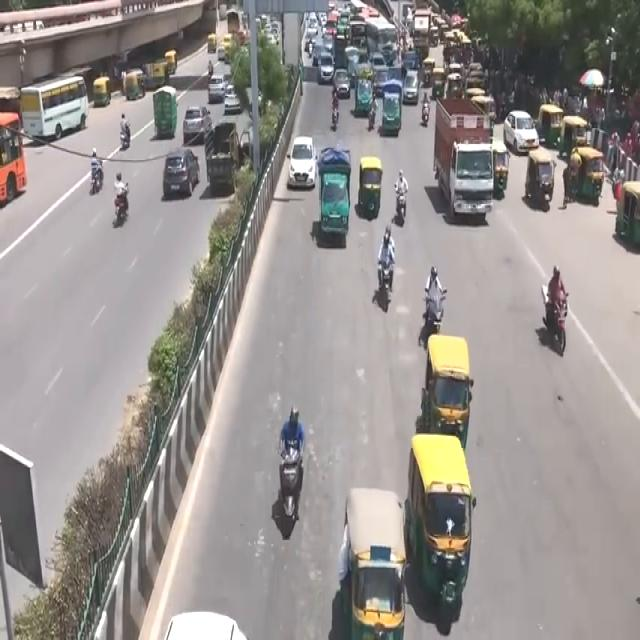BUS: (23, 70, 91, 140), (366, 20, 398, 66)
MOTORCYCLE: (278, 448, 304, 544), (552, 292, 570, 358), (378, 262, 395, 314), (396, 190, 406, 227)
TRUCK: (436, 95, 496, 225), (321, 152, 352, 252)
